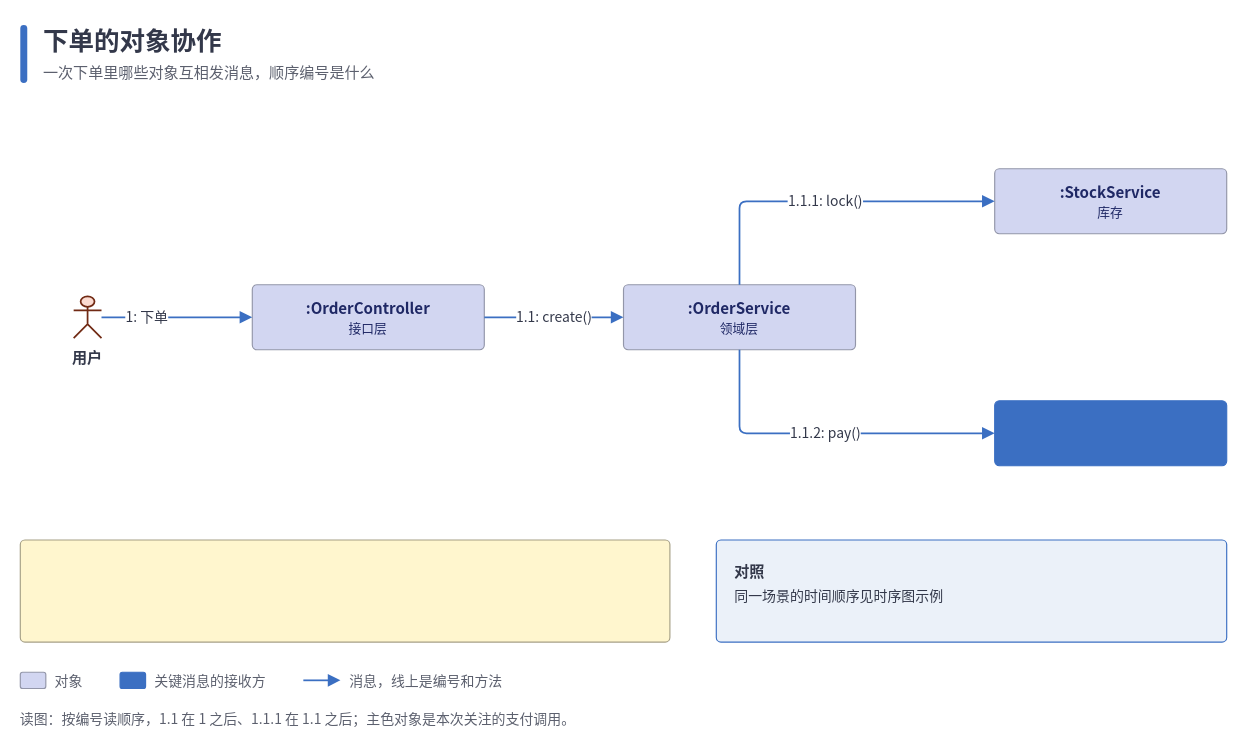
Image size: 1247x749. Some labels were removed from this diagram. The centre of each missing label's shape, as x and y in pixels:
":PayClient 支付" goes at (x=1110, y=433).
"编号规则 数字按嵌套层级：1 发起，1.1 是它引出的调用，1.1.1 再往下一层 同一层按先后顺序递增" goes at (x=344, y=590).
